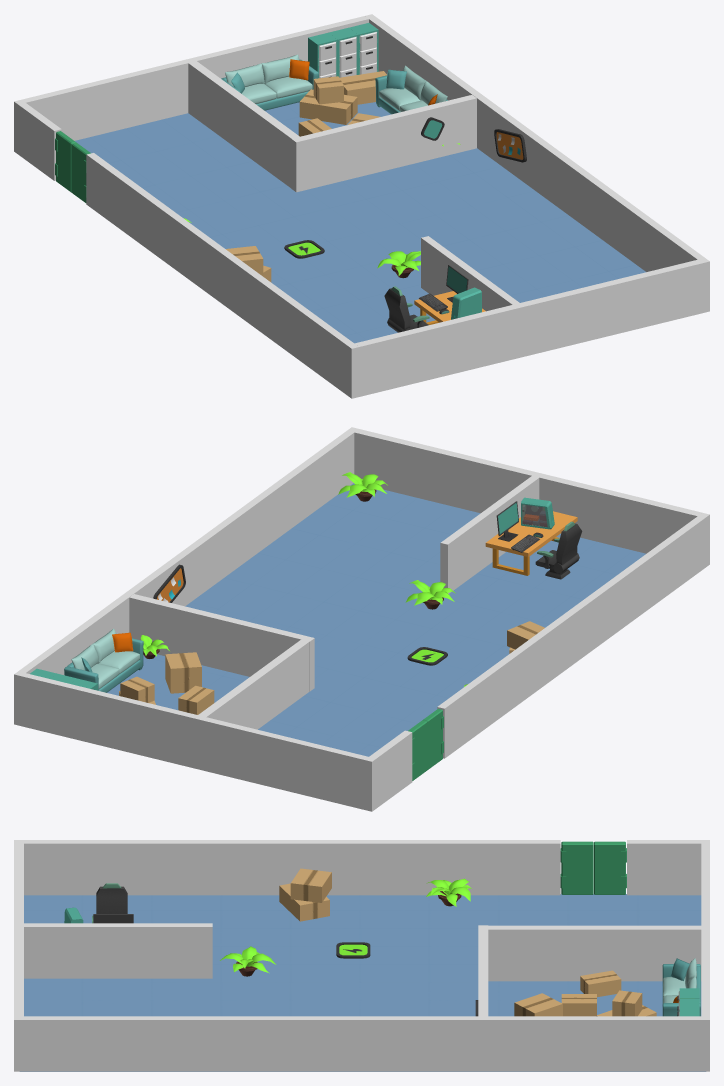
Rendered from maps_19.fbx.
The picture shows the model from 3 angles, top to bottom: view 1: azimuth 30°, elevation 25°; view 2: azimuth 150°, elevation 25°; view 3: azimuth 270°, elevation 25°; orthographic projection. The views are drawn at different scales.
Visible parts, largest first — view 1: polySurface144, polySurface195, polySurface196, polySurface191, polySurface193, polySurface261, polySurface262, sofa_geo, polySurface260, sofa_geo1, polySurface197, pasted__polySurface258 (+12 smaller); view 2: polySurface144, polySurface193, polySurface196, polySurface195, polySurface191, polySurface261, polySurface262, polySurface260, sofa_geo1, polySurface197, pasted__polySurface258, pasted__table03 (+10 smaller); view 3: polySurface144, polySurface191, polySurface196, polySurface262, polySurface260, polySurface197, polySurface2, polySurface6, polySurface195, polySurface193, sofa_geo, box7 (+11 smaller).
Part boxes in pixels (x1,y1,x2,y2): polySurface144: (75, 102, 645, 343); polySurface195: (354, 259, 703, 396); polySurface196: (86, 153, 359, 398); polySurface191: (365, 14, 709, 312); polySurface193: (14, 16, 368, 154); polySurface261: (291, 95, 476, 192); polySurface262: (188, 61, 299, 187); sofa_geo: (221, 54, 318, 110); polySurface260: (421, 236, 519, 311); sofa_geo1: (375, 65, 447, 114); polySurface197: (18, 103, 61, 180); pasted__polySurface258: (419, 265, 481, 319); polySurface144: (107, 483, 645, 756); polySurface193: (21, 673, 376, 811); polySurface196: (437, 512, 709, 758); polySurface195: (354, 429, 701, 553); polySurface191: (14, 427, 358, 725); polySurface261: (129, 594, 314, 691); polySurface262: (197, 639, 309, 729); polySurface260: (440, 475, 539, 593); sofa_geo1: (64, 628, 143, 692); polySurface197: (369, 730, 412, 808); pasted__polySurface258: (496, 497, 554, 552); pasted__table03: (485, 511, 577, 575); polySurface144: (20, 894, 705, 1071); polySurface191: (14, 1016, 709, 1071); polySurface196: (14, 840, 560, 895); polySurface262: (488, 925, 702, 981); polySurface260: (23, 923, 212, 978); polySurface197: (627, 840, 701, 895); polySurface2: (560, 841, 593, 894); polySurface6: (594, 841, 626, 894); polySurface195: (14, 843, 23, 1016); polySurface193: (701, 840, 709, 1016); sofa_geo: (662, 958, 700, 1016); box7: (290, 868, 331, 902).
Size of the model in its own units: 66.51 by 10.09 by 109.
Materials: 12 (11 with a texture image).
